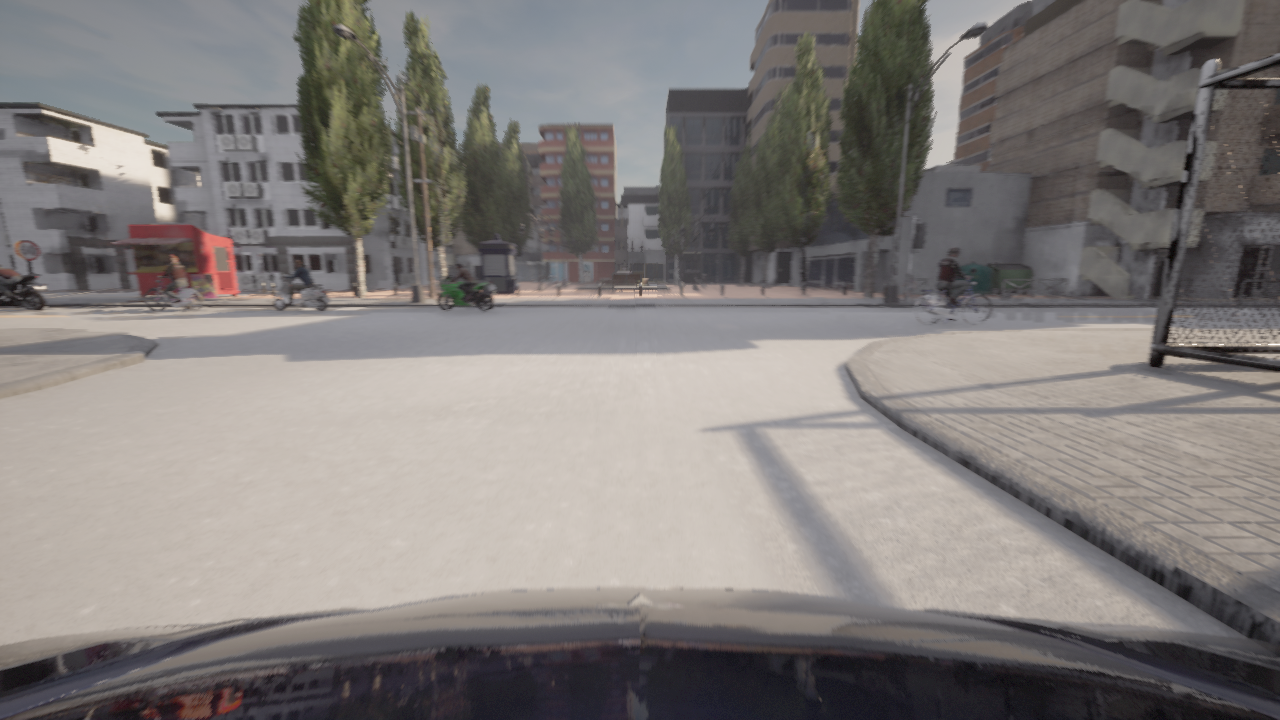cyclist: (0, 588, 1279, 719), (916, 277, 991, 325), (436, 274, 495, 312), (273, 272, 330, 311), (145, 276, 201, 311), (0, 275, 47, 310)
pedestrian: (901, 275, 915, 301)
